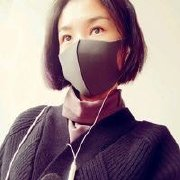face_mask: (58, 0, 122, 89)
